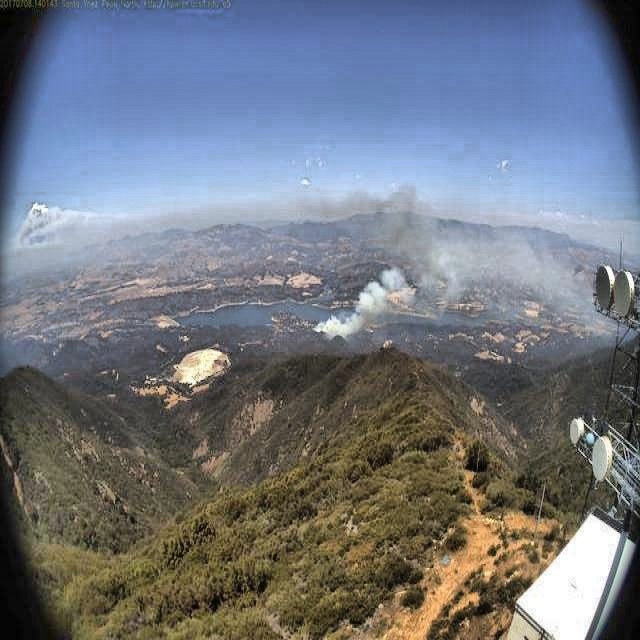smoke: (307, 179, 549, 344)
